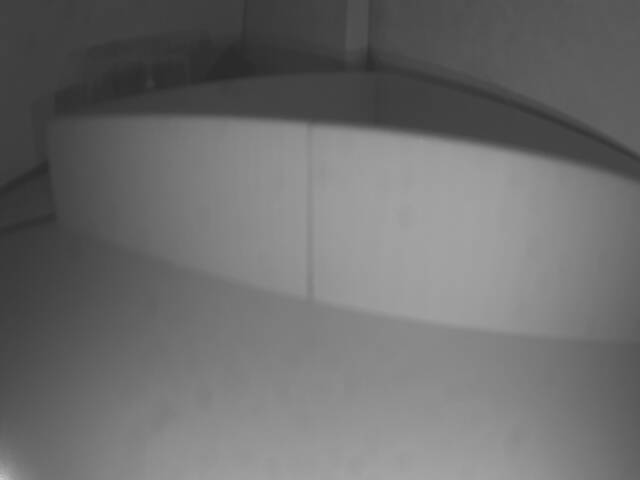Red: (45, 105, 640, 356)
